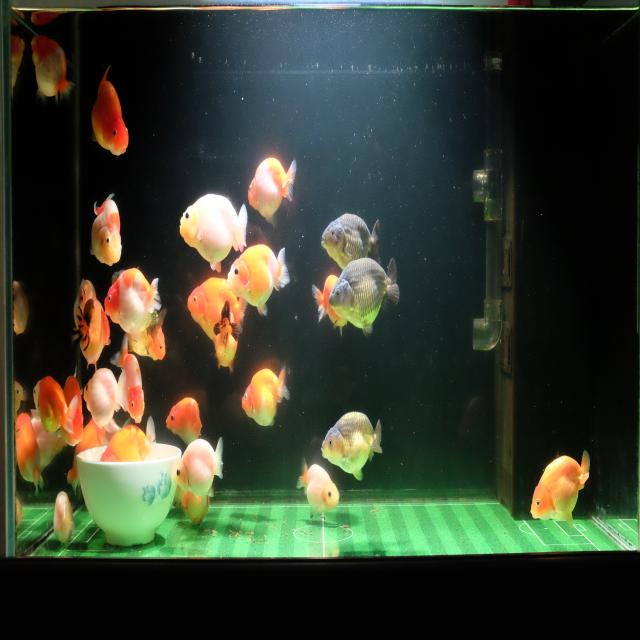Tilapia: (328, 254, 401, 338), (178, 191, 248, 274), (528, 447, 592, 530), (226, 243, 292, 319), (320, 411, 384, 482), (102, 268, 163, 334), (187, 276, 247, 342), (173, 434, 225, 509), (90, 64, 130, 159), (320, 211, 384, 270), (247, 156, 298, 230), (108, 332, 145, 425), (97, 414, 156, 471), (240, 364, 291, 429), (30, 32, 74, 107), (32, 374, 79, 444), (70, 296, 111, 373), (296, 454, 340, 524), (14, 412, 45, 500), (83, 364, 120, 434), (89, 192, 122, 268), (311, 273, 349, 336), (126, 308, 168, 362), (211, 299, 240, 376), (59, 368, 83, 449), (165, 394, 203, 445), (181, 480, 215, 527), (52, 488, 76, 550)
